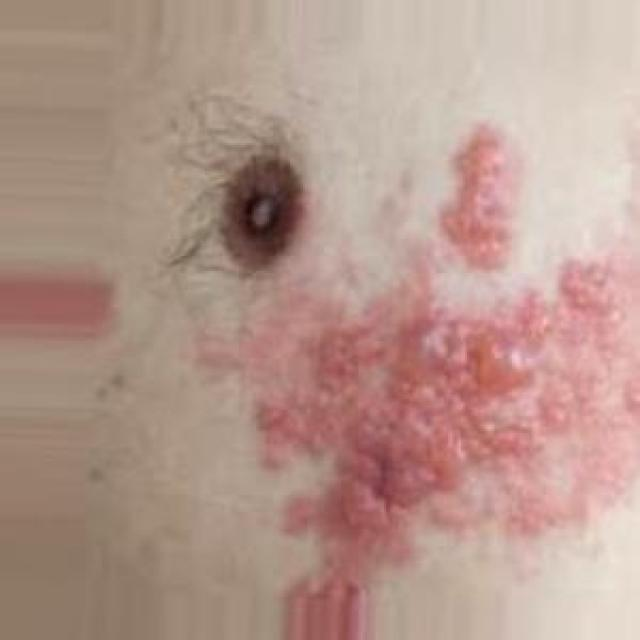Shingles: (210, 128, 640, 580)
